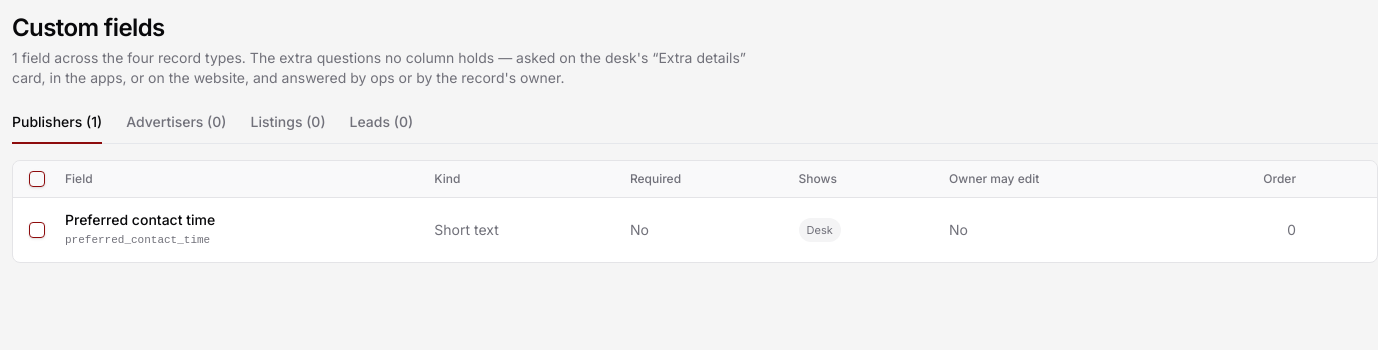
Test: permissions › shuts every action without settings.edit, naming it
Click the checkbox named "Select all rows" at coordinates (37, 179), box left=29, top=171, right=45, bottom=187
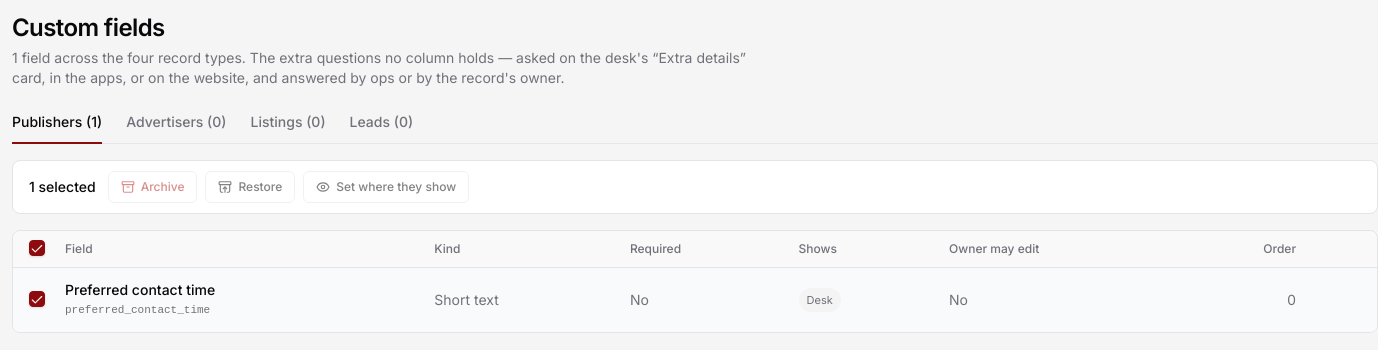
Result: the button with test id "bulk-switches" is disabled at left=303, top=171, right=469, bottom=203
